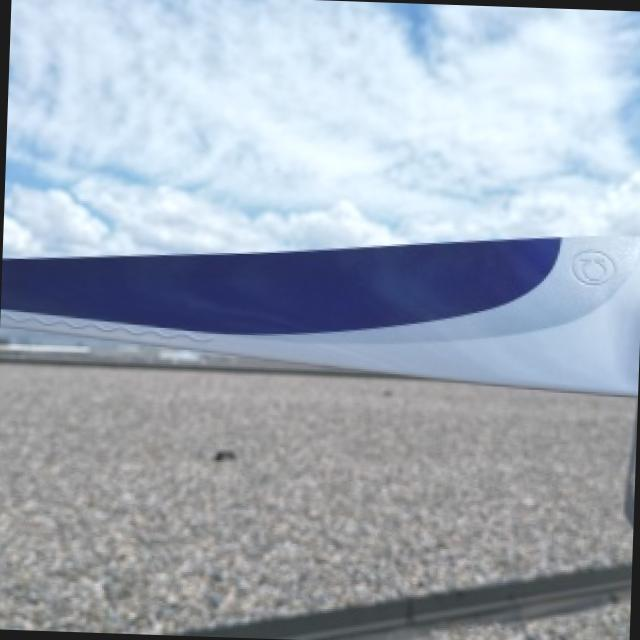healthy: (1, 234, 640, 393)
